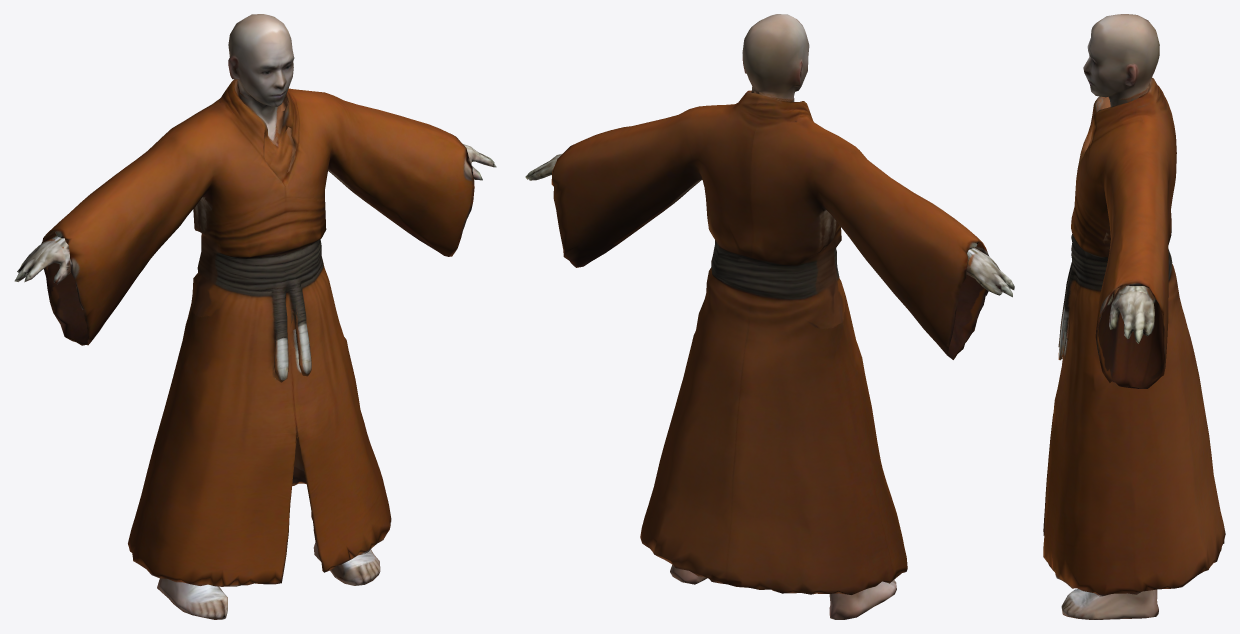
The model's file is Tạo_cho_tôi_một__0827144013_texture.obj.
3 renders of one model, left to right at view 1: azimuth 30°, elevation 25°; view 2: azimuth 150°, elevation 25°; view 3: azimuth 270°, elevation 25°, orthographic.
Parts seen in each view (by area): view 1: model; view 2: model; view 3: model.
Boxes of the visible parts, <box> form: model: <box>14,14,496,619</box>; model: <box>525,14,1014,619</box>; model: <box>1043,14,1225,619</box>.
Bounding box in the file's own units: 1.78 × 2 × 0.586.
